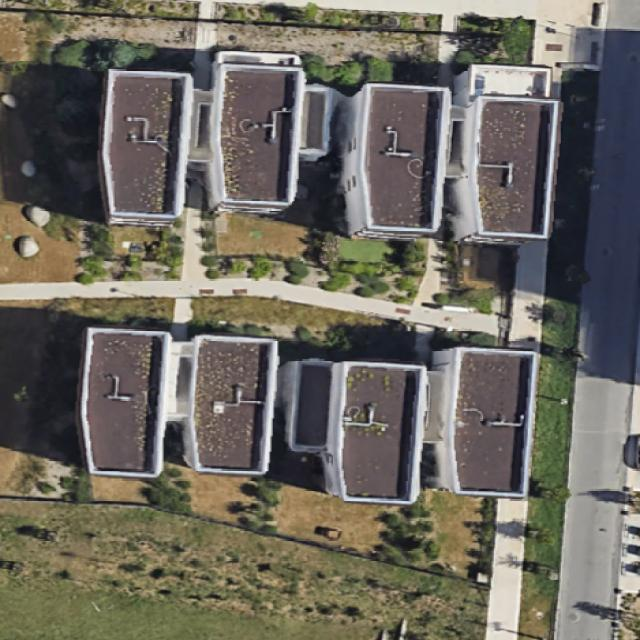immeuble: (446, 60, 563, 246), (287, 358, 430, 504), (331, 82, 448, 241), (207, 51, 305, 213), (71, 324, 169, 480), (97, 69, 190, 226), (182, 333, 276, 476)
